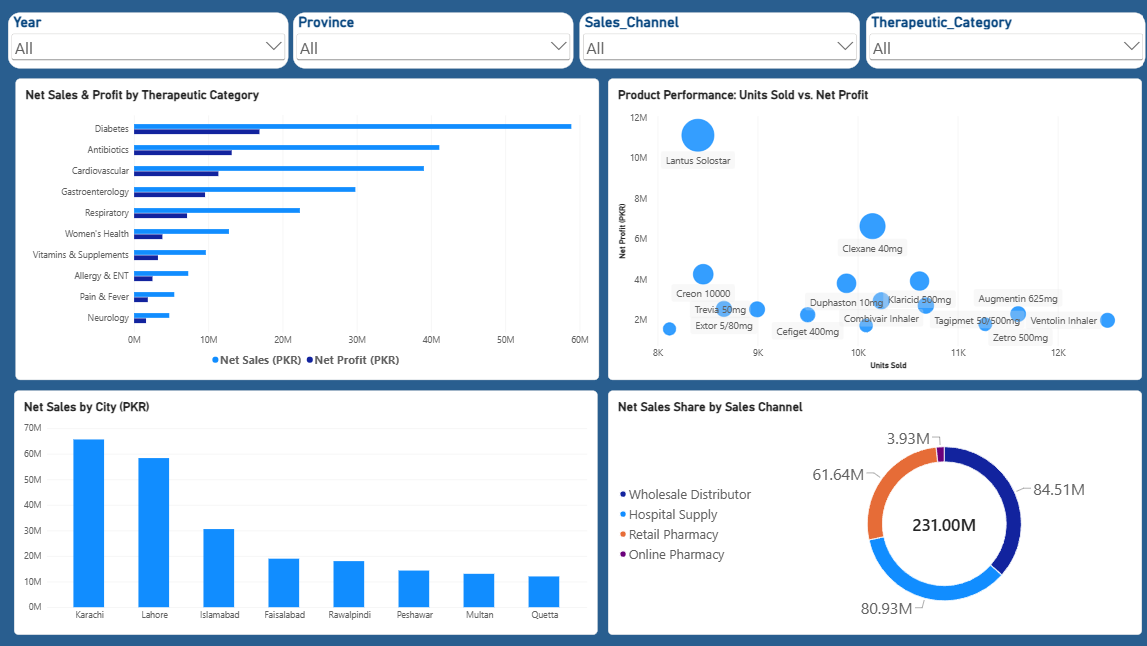

The page's visual inventory and layout, read from the dashboard file:
{"tool":"powerbi","page":{"name":"Product & Regional Analysis","canvas":[1920,1080],"ordinal":1},"visuals":[{"type":"clusteredBarChart","title":"Net Sales & Profit by Therapeutic Category","fields":{"Category":["Pakistan_Pharmaceutical_Sales_2023_2026.Therapeutic_Category"],"Y":["Sum(Pakistan_Pharmaceutical_Sales_2023_2026.Net_Sales_PKR)","Sum(Pakistan_Pharmaceutical_Sales_2023_2026.Profit_PKR)"]},"box":[27.5,132.5,972.5,502.5],"z":0},{"type":"scatterChart","title":"Product Performance: Units Sold vs. Net Profit","fields":{"Category":["Pakistan_Pharmaceutical_Sales_2023_2026.Product_Name"],"Size":["Sum(Pakistan_Pharmaceutical_Sales_2023_2026.Net_Sales_PKR)"],"X":["Sum(Pakistan_Pharmaceutical_Sales_2023_2026.Units_Sold)"],"Y":["Sum(Pakistan_Pharmaceutical_Sales_2023_2026.Profit_PKR)"]},"box":[1015,132.5,890,502.5],"z":1000},{"type":"columnChart","title":"Net Sales by City (PKR)","fields":{"Category":["Pakistan_Pharmaceutical_Sales_2023_2026.City"],"Y":["Sum(Pakistan_Pharmaceutical_Sales_2023_2026.Net_Sales_PKR)"]},"box":[25,652.5,972.5,407.5],"z":2000},{"type":"donutChart","title":"Net Sales Share by Sales Channel","fields":{"Category":["Pakistan_Pharmaceutical_Sales_2023_2026.Sales_Channel"],"Y":["Sum(Pakistan_Pharmaceutical_Sales_2023_2026.Net_Sales_PKR)"]},"box":[1015,652.5,890,407.5],"z":3000},{"type":"slicer","fields":{"Values":["Date.Date.Variation.Date Hierarchy.Year"]},"box":[15,22.1,467.6,93.1],"z":3001},{"type":"slicer","fields":{"Values":["Pakistan_Pharmaceutical_Sales_2023_2026.Province"]},"box":[489.8,22.1,467.6,93.1],"z":3002},{"type":"slicer","fields":{"Values":["Pakistan_Pharmaceutical_Sales_2023_2026.Sales_Channel"]},"box":[967,22.1,467.6,93.1],"z":3003},{"type":"slicer","fields":{"Values":["Pakistan_Pharmaceutical_Sales_2023_2026.Therapeutic_Category"]},"box":[1444.2,22.1,467.6,93.1],"z":3004}]}

Visuals, with their boxes in screenshot pixels (x1, y1, x2, y2), scaled from the page's 1920x1080 canvas onto the 1147x646 screenshot:
"Net Sales & Profit by Therapeutic Category" clusteredBarChart: [x1=16, y1=79, x2=597, y2=380]
"Product Performance: Units Sold vs. Net Profit" scatterChart: [x1=606, y1=79, x2=1138, y2=380]
"Net Sales by City (PKR)" columnChart: [x1=15, y1=390, x2=596, y2=634]
"Net Sales Share by Sales Channel" donutChart: [x1=606, y1=390, x2=1138, y2=634]
slicer - Date.Date.Variation.Date Hierarchy.Year: [x1=9, y1=13, x2=288, y2=69]
slicer - Pakistan_Pharmaceutical_Sales_2023_2026.Province: [x1=293, y1=13, x2=572, y2=69]
slicer - Pakistan_Pharmaceutical_Sales_2023_2026.Sales_Channel: [x1=578, y1=13, x2=857, y2=69]
slicer - Pakistan_Pharmaceutical_Sales_2023_2026.Therapeutic_Category: [x1=863, y1=13, x2=1142, y2=69]
